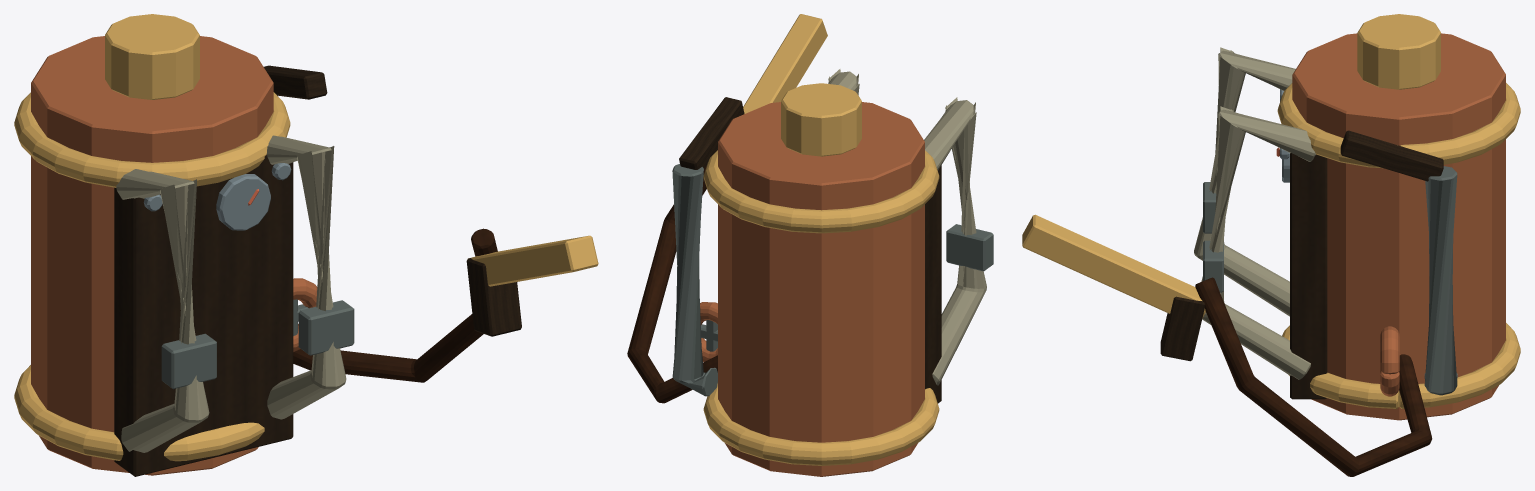
The model's file is WardenSprayer.glb.
3 renders of one model, left to right at view 1: azimuth 30°, elevation 25°; view 2: azimuth 150°, elevation 25°; view 3: azimuth 270°, elevation 25°, orthographic. The views are drawn at different scales.
Parts seen in each view (by area): view 1: Backpack tank, Backplate, Shoulder strap, Shoulder strap.001, Tank binding.001, Filler cap, Tank binding, Flexible hose, Spray wand, Wand grip, Strap buckle.001, Strap buckle (+3 smaller); view 2: Backpack tank, Tank binding.001, Tank binding, Pump riser, Shoulder strap, Filler cap, Flexible hose, Spray wand, Backplate, Pump lever, Strap buckle, Valve handwheel.001 (+1 smaller); view 3: Backpack tank, Backplate, Flexible hose, Shoulder strap.001, Spray wand, Pump riser, Filler cap, Shoulder strap, Tank binding, Tank binding.001, Pump lever, Wand grip (+3 smaller).
Boxes of the visible parts, left/top/right/bottom form: Backpack tank: left=31, top=36, right=273, bottom=475; Backplate: left=114, top=154, right=293, bottom=476; Shoulder strap: left=116, top=169, right=209, bottom=452; Shoulder strap.001: left=266, top=135, right=346, bottom=419; Tank binding.001: left=14, top=92, right=290, bottom=187; Filler cap: left=105, top=14, right=199, bottom=99; Tank binding: left=14, top=365, right=264, bottom=461; Flexible hose: left=293, top=228, right=497, bottom=382; Spray wand: left=467, top=235, right=598, bottom=286; Wand grip: left=466, top=258, right=521, bottom=336; Strap buckle.001: left=298, top=300, right=354, bottom=355; Strap buckle: left=161, top=333, right=216, bottom=389; Backpack tank: left=718, top=102, right=924, bottom=476; Tank binding.001: left=703, top=150, right=939, bottom=233; Tank binding: left=703, top=382, right=939, bottom=465; Pump riser: left=672, top=164, right=717, bottom=396; Shoulder strap: left=924, top=97, right=986, bottom=385; Filler cap: left=781, top=83, right=861, bottom=156; Flexible hose: left=627, top=165, right=717, bottom=403; Spray wand: left=743, top=14, right=827, bottom=113; Backplate: left=925, top=165, right=941, bottom=403; Pump lever: left=679, top=97, right=744, bottom=169; Strap buckle: left=946, top=224, right=993, bottom=271; Valve handwheel.001: left=700, top=302, right=717, bottom=361; Backpack tank: left=1292, top=33, right=1505, bottom=420; Backplate: left=1290, top=153, right=1327, bottom=399; Flexible hose: left=1195, top=277, right=1432, bottom=476; Shoulder strap.001: left=1201, top=106, right=1315, bottom=379; Spray wand: left=1022, top=214, right=1205, bottom=318; Pump riser: left=1424, top=166, right=1457, bottom=395; Filler cap: left=1357, top=14, right=1440, bottom=89; Shoulder strap: left=1194, top=47, right=1295, bottom=316; Tank binding: left=1282, top=323, right=1520, bottom=408; Tank binding.001: left=1277, top=83, right=1520, bottom=168; Pump lever: left=1340, top=130, right=1443, bottom=181; Wand grip: left=1160, top=296, right=1204, bottom=361.
Size of the model in its own units: 0.8535 by 0.82 by 1.07.
Materials: 8 (2 with a texture image).
